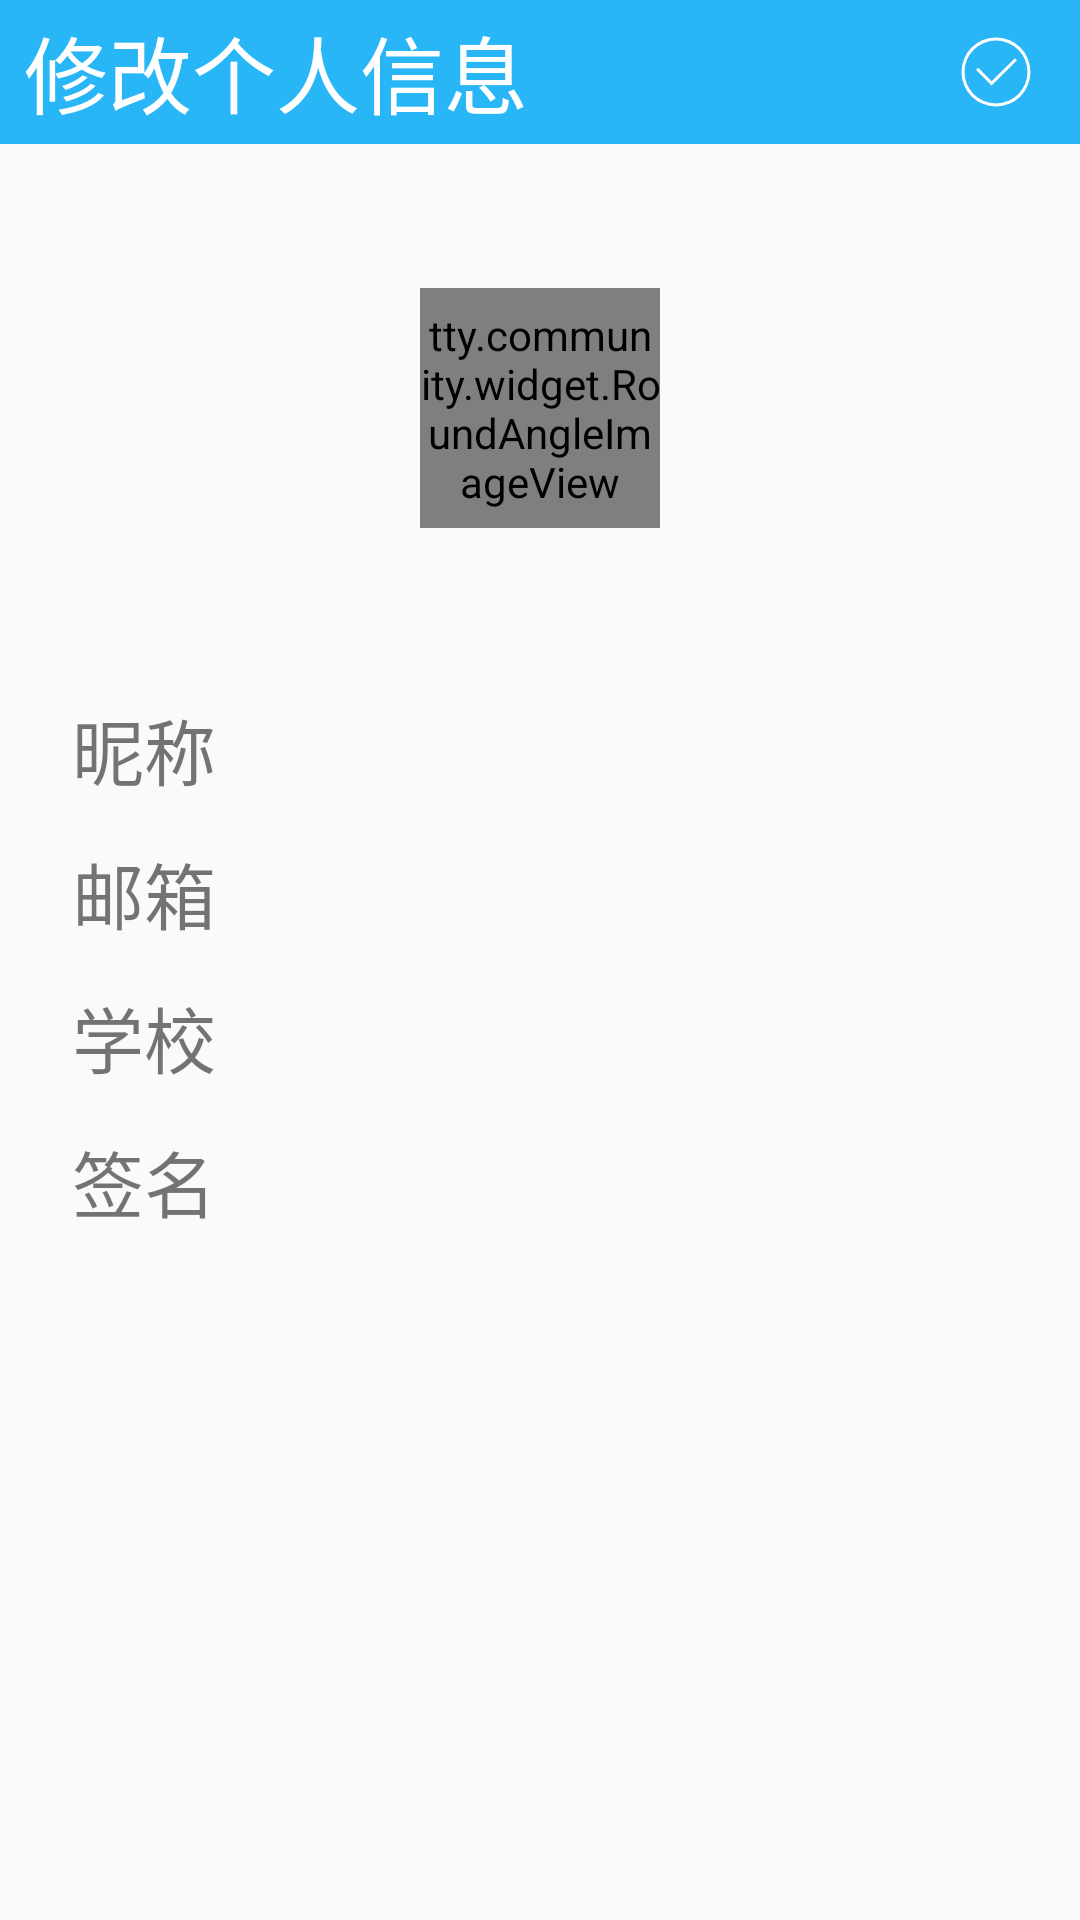

Named icons in this screenshot (1080×1920) and their centers, (x=x, y=y):
check: (x=996, y=72)
